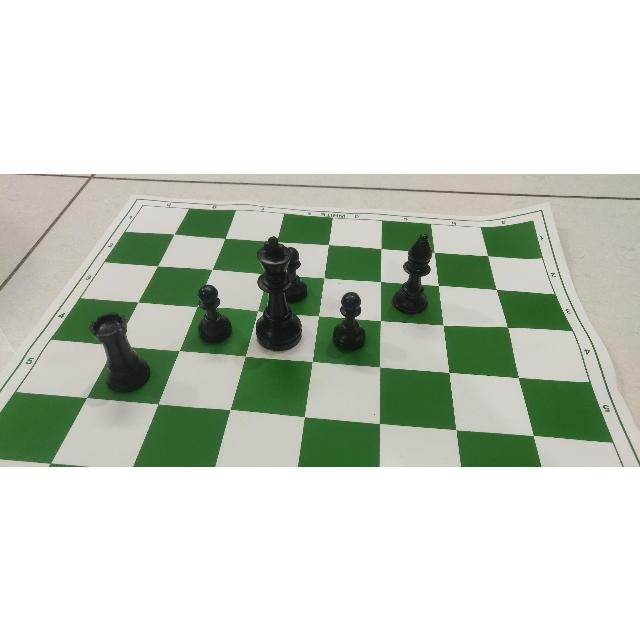black-bishop: (391, 231, 433, 316)
black-king: (253, 234, 303, 353)
black-pawn: (196, 283, 233, 344), (332, 289, 366, 350), (285, 245, 308, 304)
black-rook: (88, 311, 151, 393)
